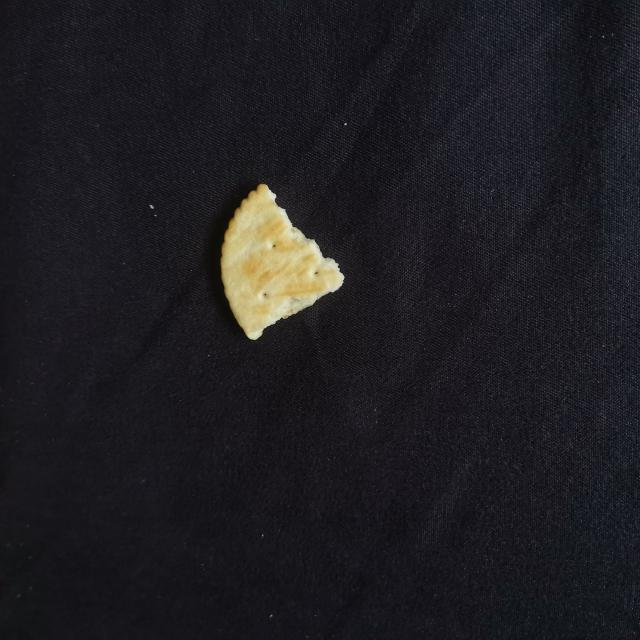Broken: (219, 183, 345, 341)
